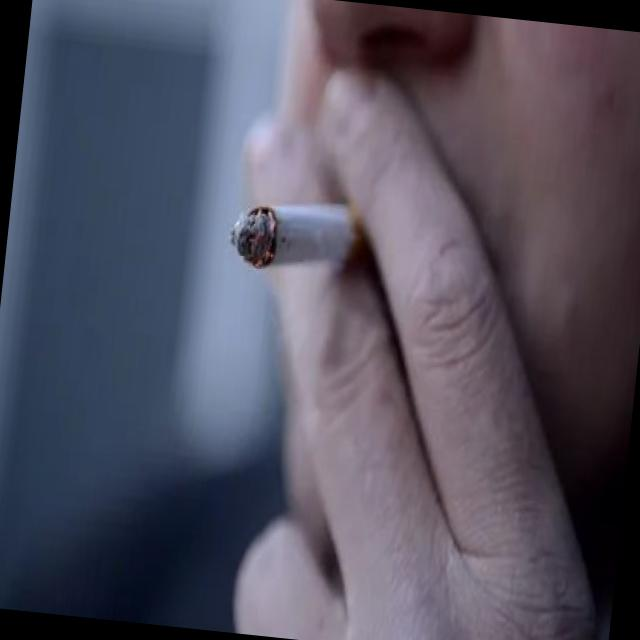cigarette: (221, 177, 378, 284)
